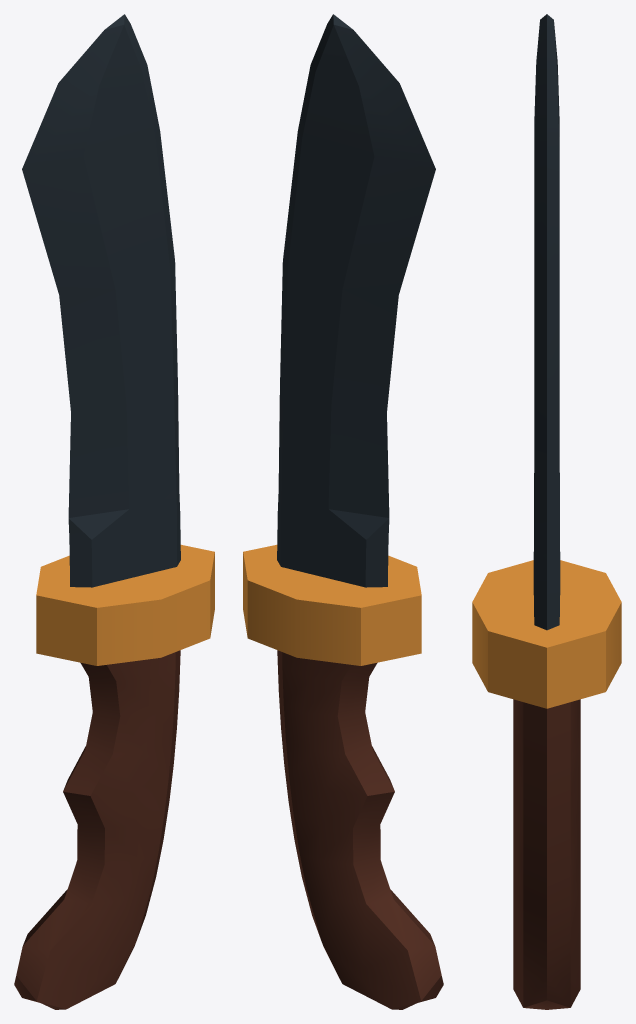
The model's file is knife.fbx.
3 views of the same model, side by side, from view 1: azimuth 30°, elevation 25°; view 2: azimuth 150°, elevation 25°; view 3: azimuth 270°, elevation 25° (orthographic). The views are drawn at different scales.
Visible parts, largest first — view 1: knife; view 2: knife; view 3: knife.
Part boxes in pixels (x1,y1,x2,y2): knife: [14, 14, 214, 1009]; knife: [243, 14, 443, 1009]; knife: [472, 14, 621, 1009].
Bounding box in the file's own units: 7.17 × 33.47 × 4.45.
